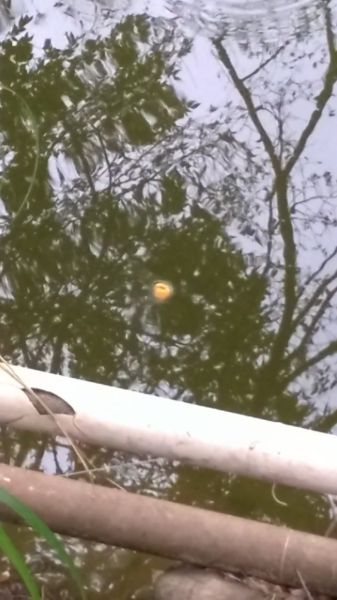eggs: (148, 277, 175, 302)
